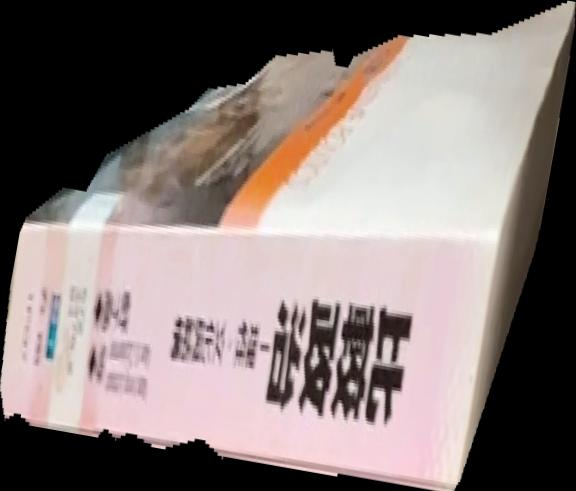flat: (1, 1, 576, 491)
